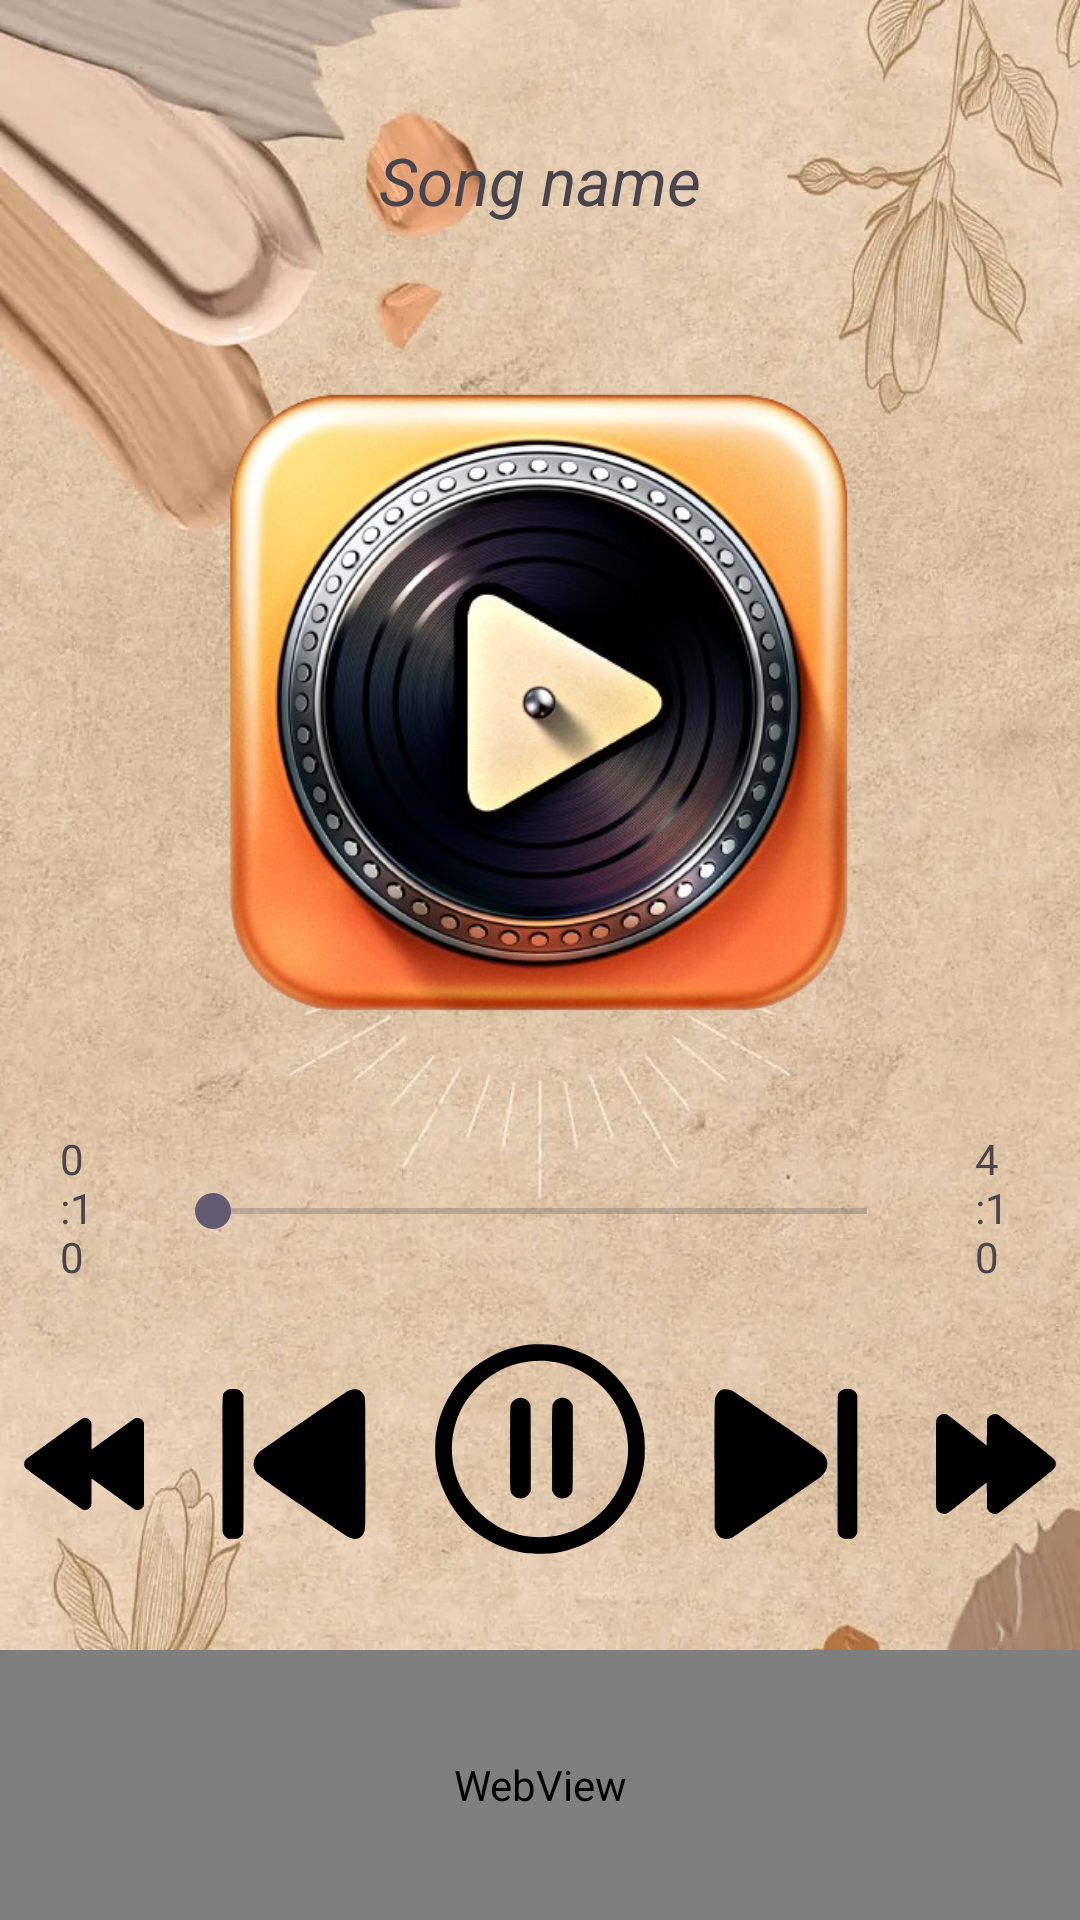

Screen size 1080px×1920px. Icon name, then its center in pixels as [x,y]:
next: [786,1464]
pause: [540,1449]
previous: [293,1464]
